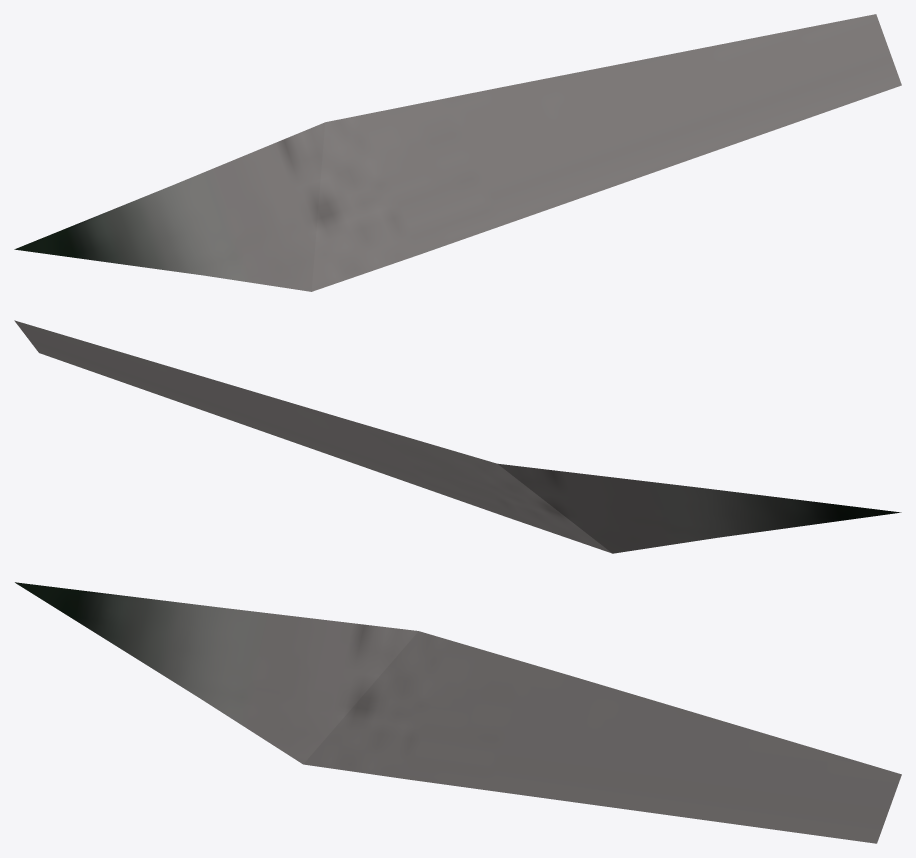
The picture shows the model from 3 angles, top to bottom: view 1: azimuth 30°, elevation 25°; view 2: azimuth 150°, elevation 25°; view 3: azimuth 330°, elevation 25°; orthographic projection. The views are drawn at different scales.
Bounding box in the file's own units: 0.2725 × 0.0337 × 0.028.
1 material, 1 textured.
